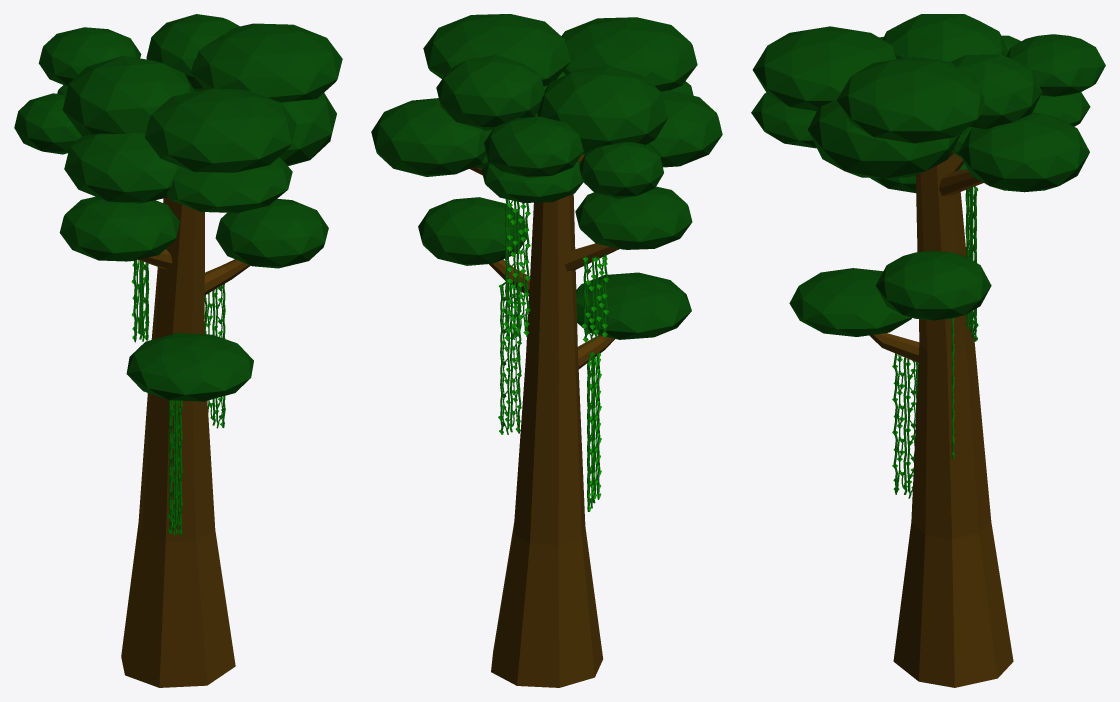
Rendered from jungle boom 3.fbx.
The picture shows the model from 3 angles, left to right: view 1: azimuth 30°, elevation 25°; view 2: azimuth 150°, elevation 25°; view 3: azimuth 270°, elevation 25°; orthographic projection. The views are drawn at different scales.
Parts seen in each view (by area): view 1: Icosphere.023; view 2: Icosphere.023; view 3: Icosphere.023.
Boxes of the visible parts, bbox=[...] form: Icosphere.023: bbox=[14, 14, 342, 687]; Icosphere.023: bbox=[371, 14, 722, 687]; Icosphere.023: bbox=[751, 14, 1105, 687].
Bounding box in the file's own units: 6.75 × 14.89 × 7.66.
